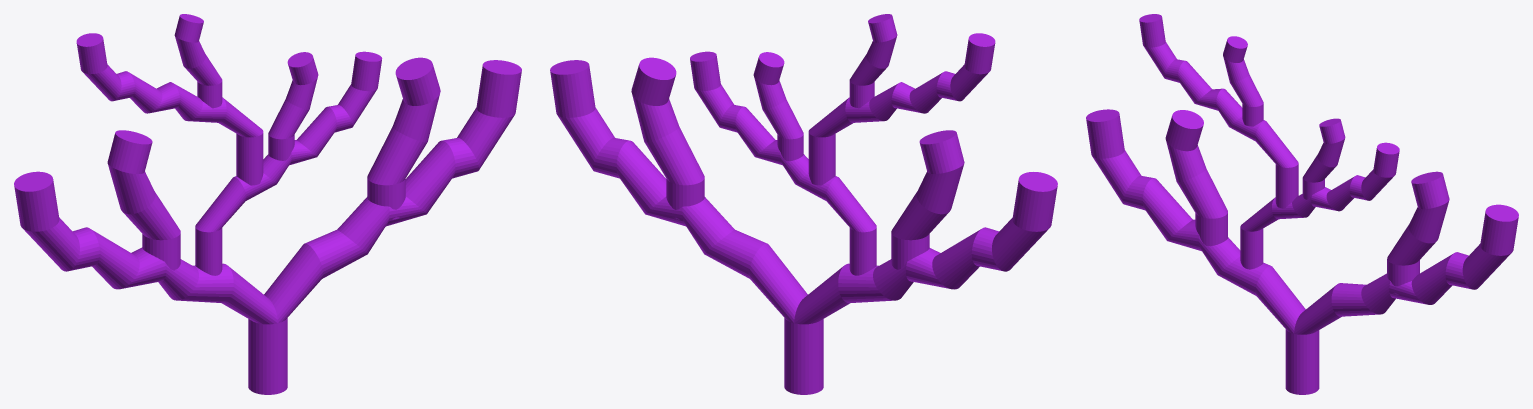
3 views of the same model, side by side, from view 1: azimuth 30°, elevation 25°; view 2: azimuth 150°, elevation 25°; view 3: azimuth 330°, elevation 25° (orthographic). The views are drawn at different scales.
Parts seen in each view (by area): view 1: Cylinder.001; view 2: Cylinder.001; view 3: Cylinder.001.
Part boxes in pixels (<box>): Cylinder.001: <box>14,14,521,394</box>; Cylinder.001: <box>550,14,1057,394</box>; Cylinder.001: <box>1086,14,1518,394</box>.
Size of the model in its own units: 1.36 by 1.01 by 0.0927.
